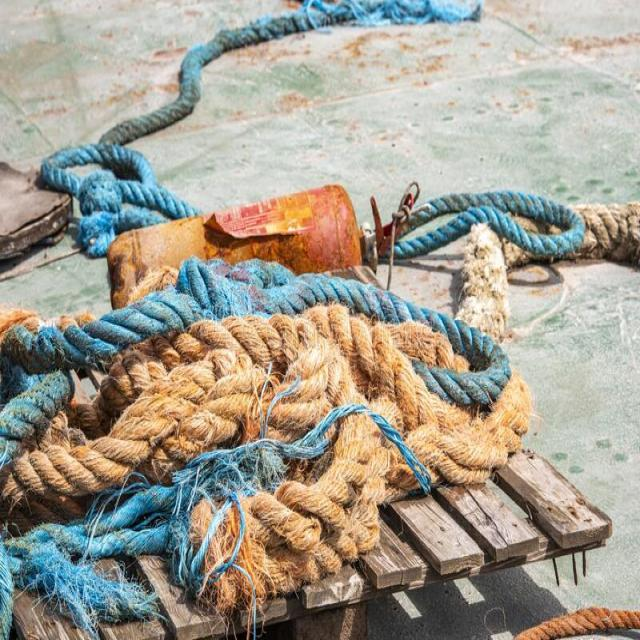fire_extinguisher: (104, 172, 428, 348)
